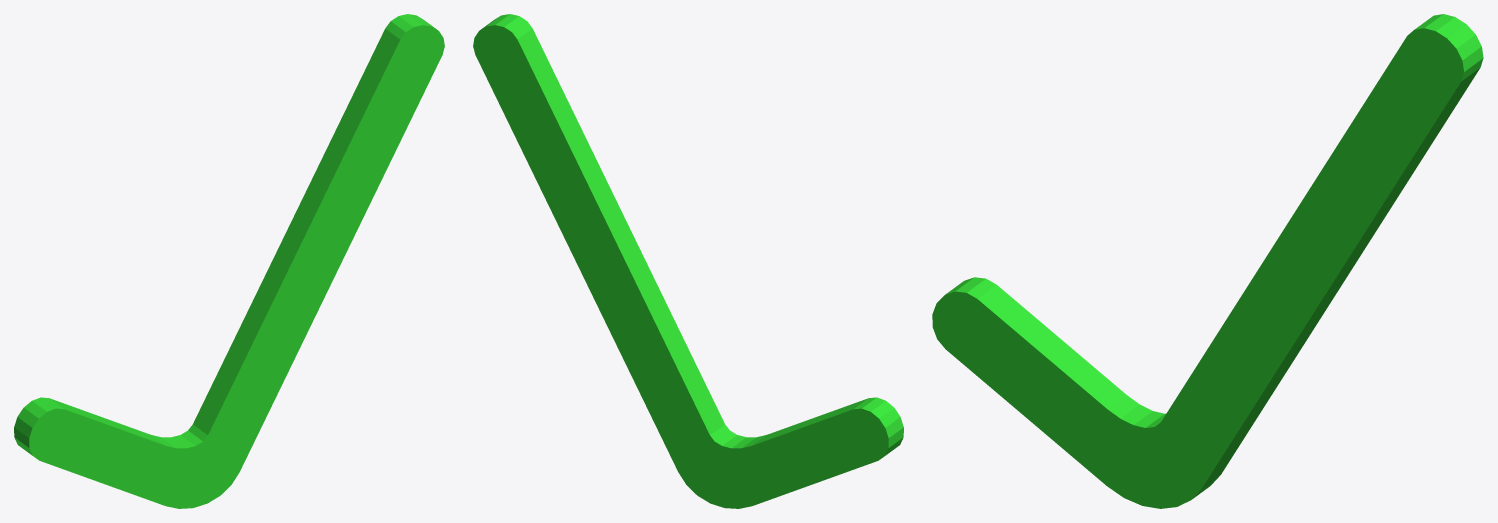
Rendered from nav_checkmark.glb.
3 renders of one model, left to right at view 1: azimuth 30°, elevation 25°; view 2: azimuth 150°, elevation 25°; view 3: azimuth 330°, elevation 25°, orthographic. The views are drawn at different scales.
Parts seen in each view (by area): view 1: Cube; view 2: Cube; view 3: Cube.
Part boxes in pixels (left/top/right/bottom): Cube: left=14, top=14, right=444, bottom=508; Cube: left=473, top=14, right=903, bottom=508; Cube: left=932, top=14, right=1483, bottom=508.
Size of the model in its own units: 1.58 by 1.55 by 0.1.
